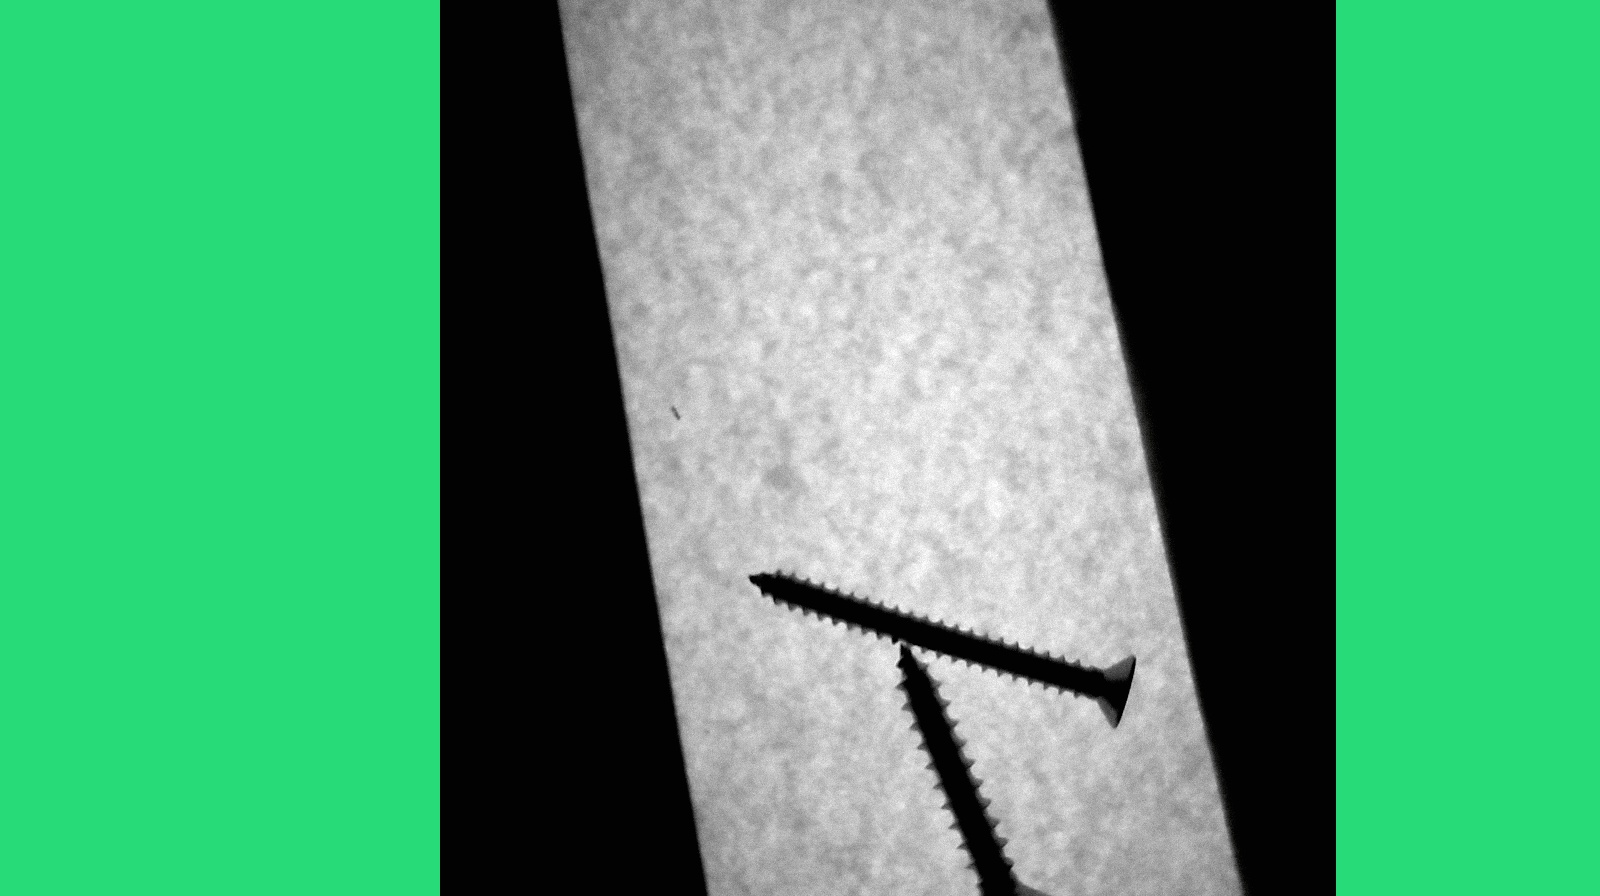S001: (893, 633, 1059, 895)
S002: (737, 555, 1149, 735)
